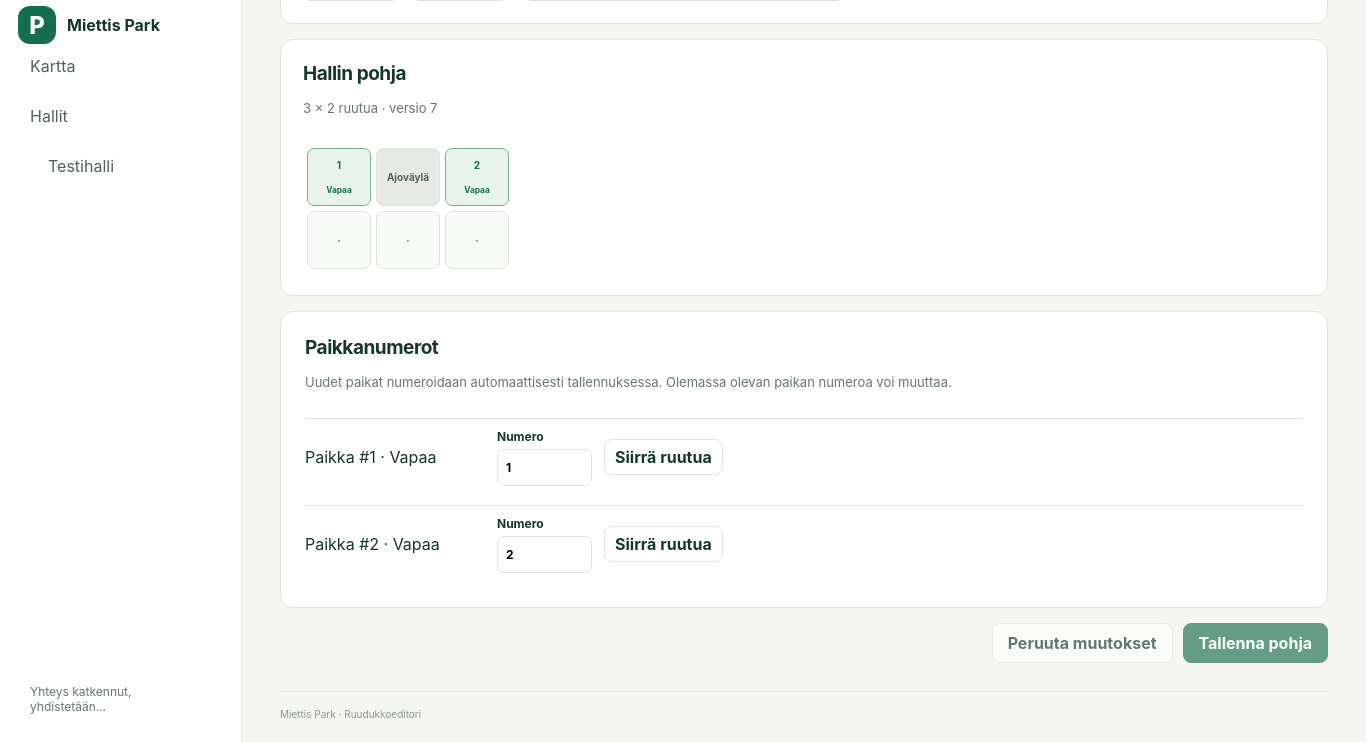
Test: ruudukkoeditori › maalaa pointerilla ja näppäimistöllä, siirtää paikkaa, numeroinnin ja peruutuksen
(page scrolled)
Click the button "Siirrä ruutua" in the row of "Paikka #1 · Vapaa" at x=663, y=457, box left=604, top=439, right=723, bottom=475
(page scrolled)
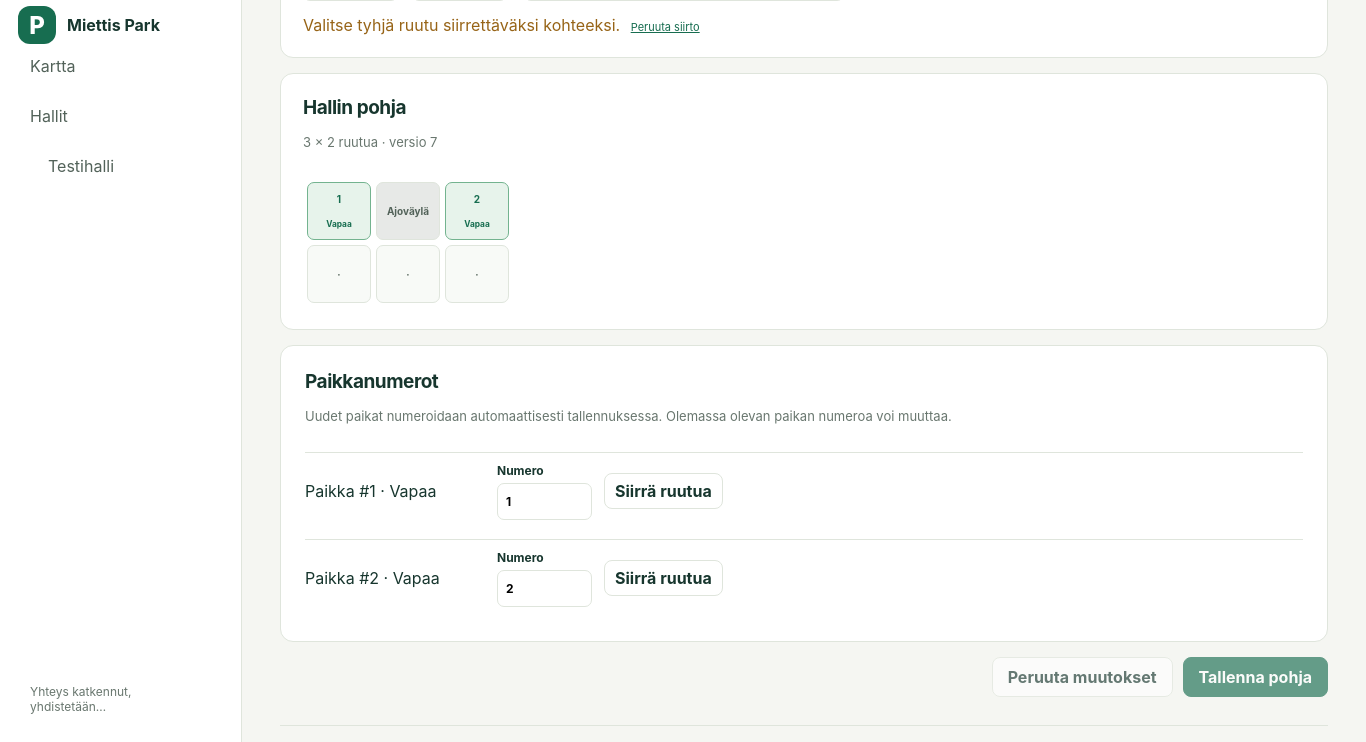
Click the 1st cell "·" at x=339, y=274, box left=307, top=245, right=371, bottom=303
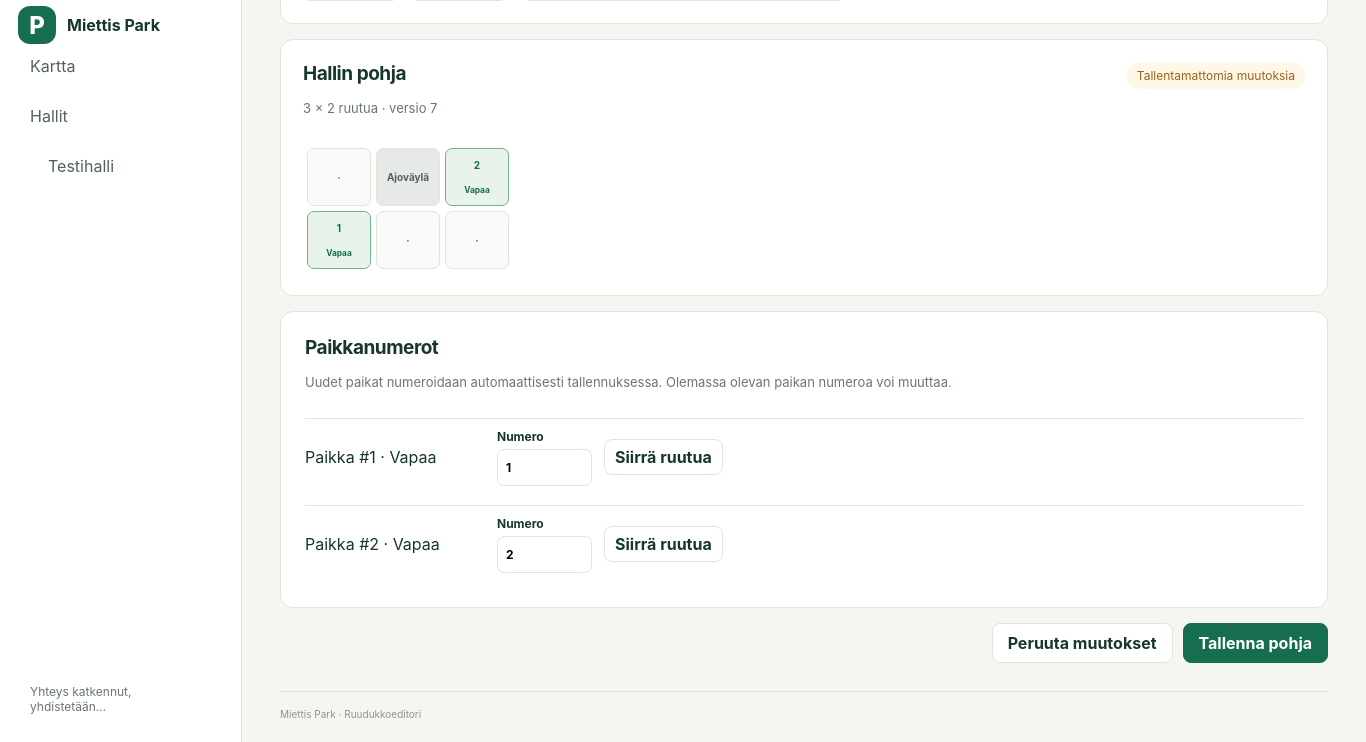
expect the cell "1 Vapaa" is shown: met, box left=307, top=211, right=371, bottom=269
Press the mouse on the 2nd cell "·" at x=408, y=240, box left=376, top=211, right=440, bottom=269
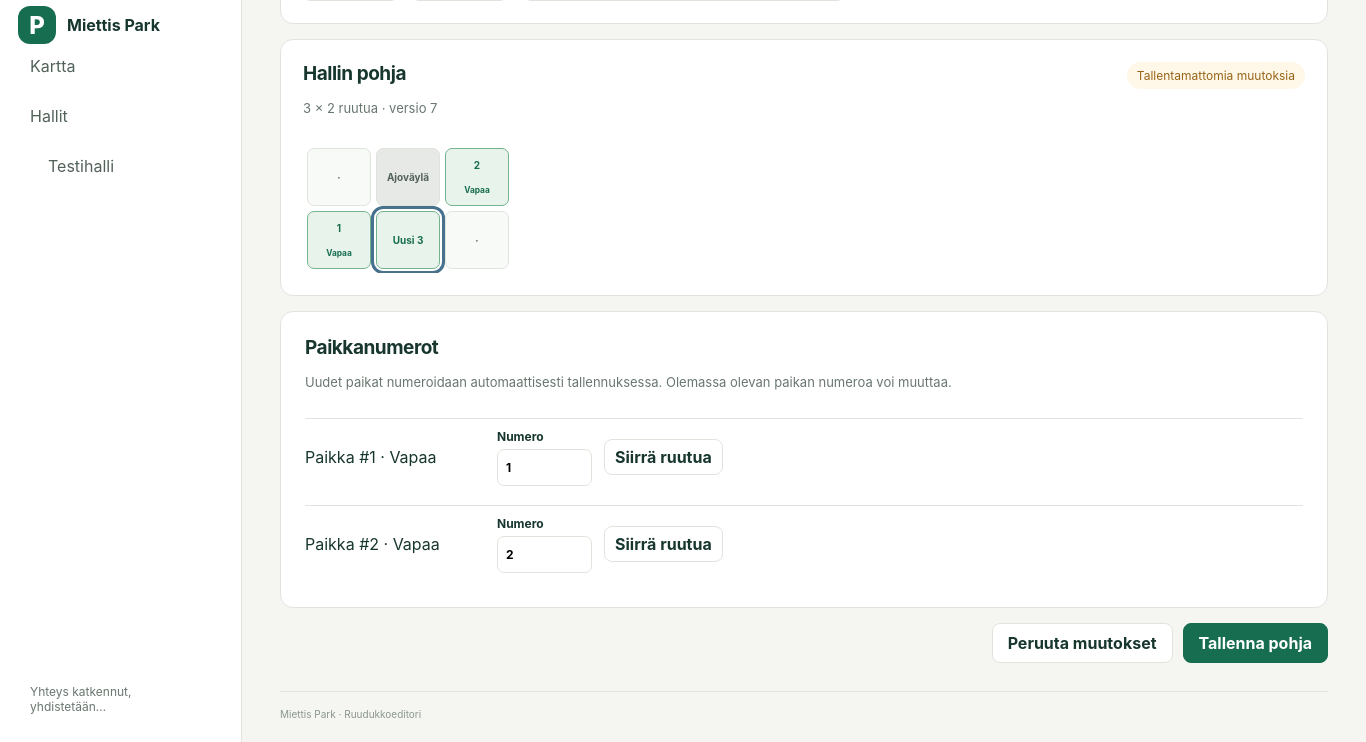
Hover over the 2nd cell "·" at x=477, y=240, box left=445, top=211, right=509, bottom=269
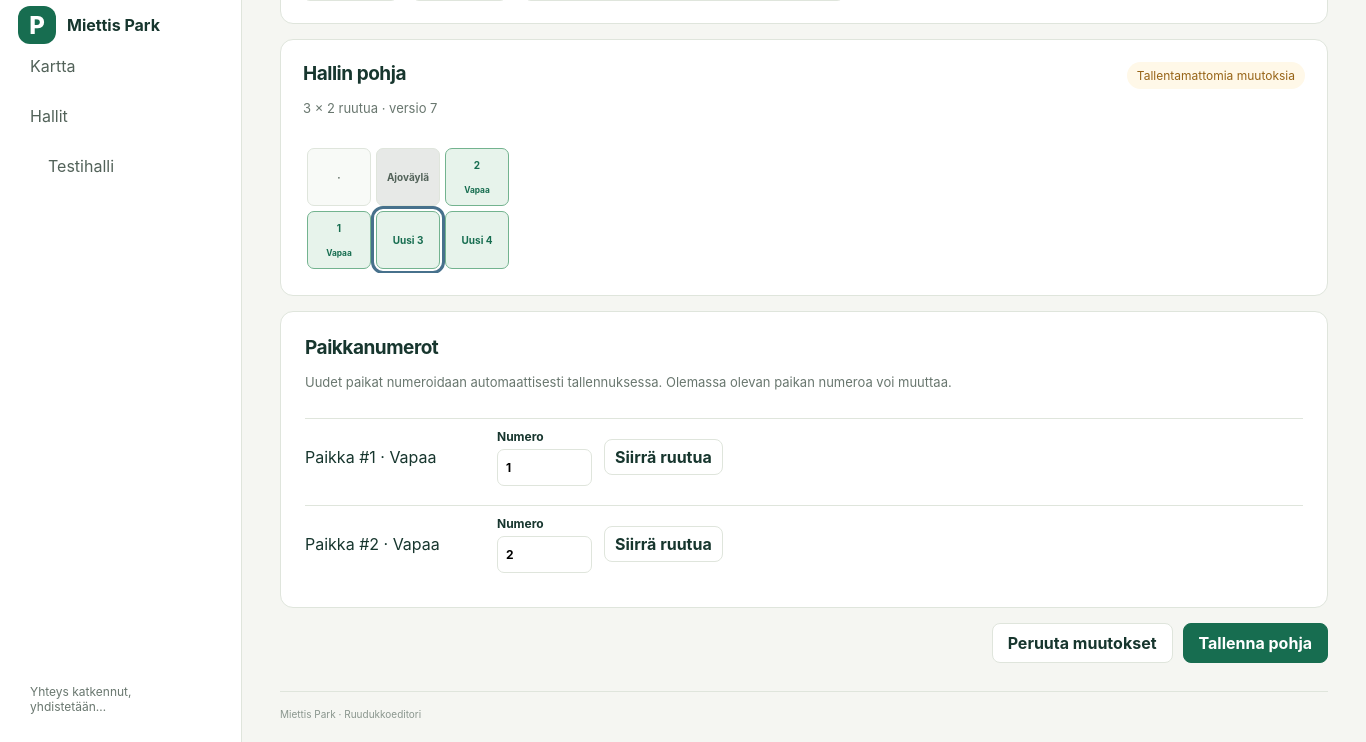
expect the cell "Uusi 3" is shown: met, box left=376, top=211, right=440, bottom=269
expect the cell "Uusi 4" is shown: met, box left=445, top=211, right=509, bottom=269
Press Space in the cell "1 Vapaa", box left=307, top=211, right=371, bottom=269
expect the cell "1 Vapaa" is shown: met, box left=307, top=211, right=371, bottom=269
Replace the text in the number field labelled "Numero" next to "Paikka #1 · Vapaa" with "9" at x=544, y=467, box left=497, top=449, right=592, bottom=486
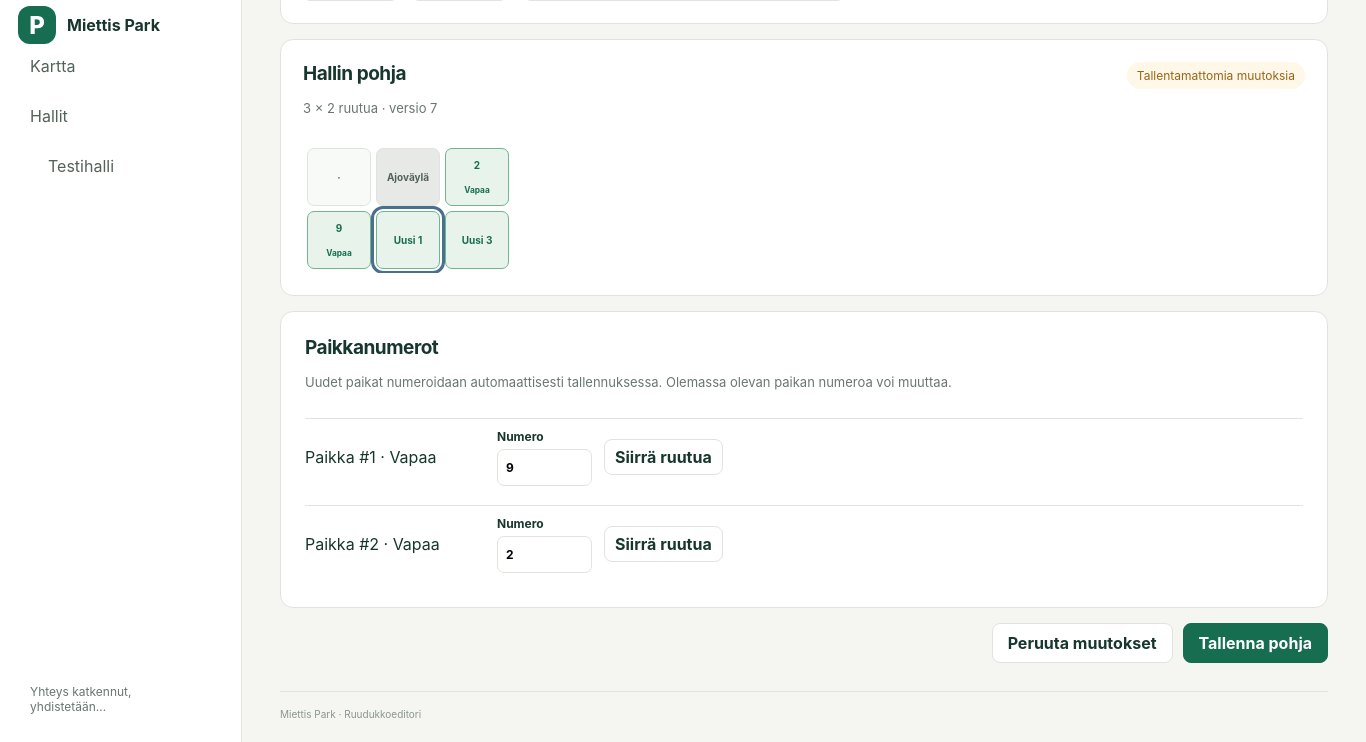
expect the text "Tallentamattomia muutoksia" is shown: met, box left=1127, top=62, right=1305, bottom=89
expect the cell "9 Vapaa" is shown: met, box left=307, top=211, right=371, bottom=269
Click the button with class "secondary-button" showing "Peruuta muutokset" at x=1082, y=643, box left=992, top=623, right=1172, bottom=663
(page scrolled)
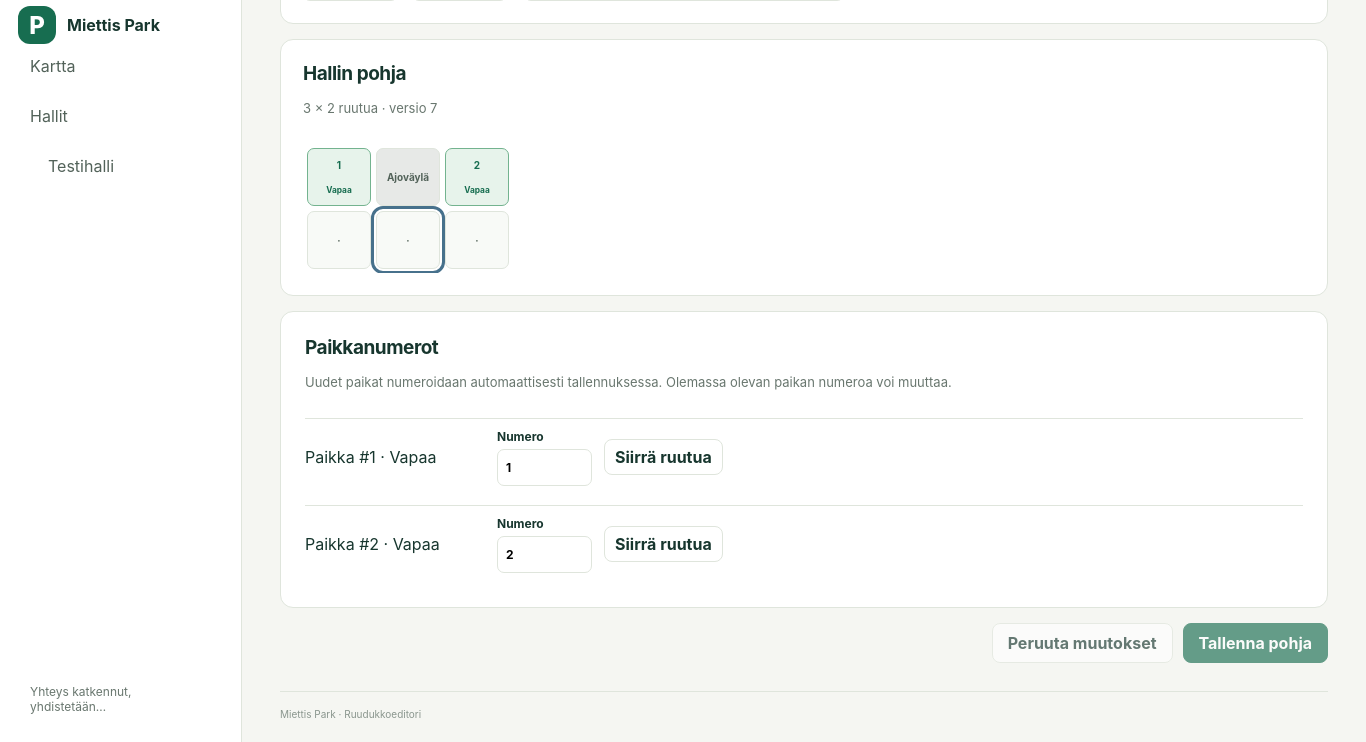
expect the cell "1 Vapaa" is shown: met, box left=307, top=148, right=371, bottom=206
expect the text "Tallentamattomia muutoksia" is gone: met
